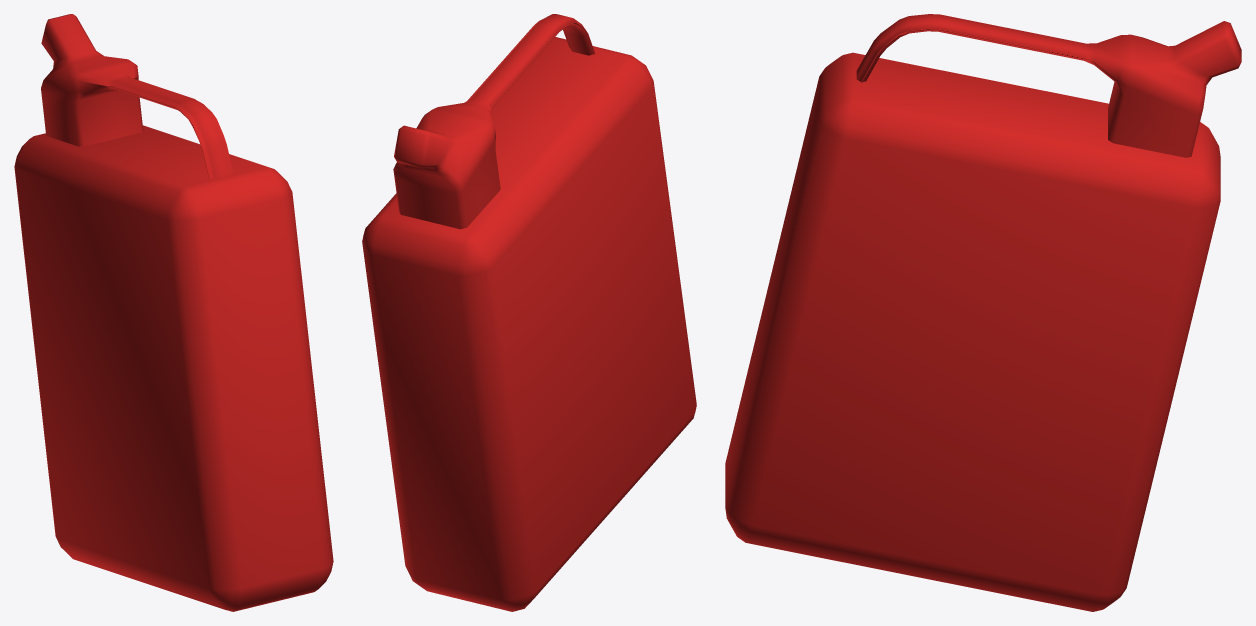
Rendered from SM_Canister.fbx.
3 renders of one model, left to right at view 1: azimuth 30°, elevation 25°; view 2: azimuth 150°, elevation 25°; view 3: azimuth 270°, elevation 25°, orthographic. The views are drawn at different scales.
Parts seen in each view (by area): view 1: Cube.001; view 2: Cube.001; view 3: Cube.001.
Part boxes in pixels (box(x1,y1,x2,y2)): Cube.001: box(14, 14, 333, 611); Cube.001: box(362, 14, 696, 611); Cube.001: box(725, 14, 1241, 611).
Size of the model in its own units: 58.11 by 225 by 184.
